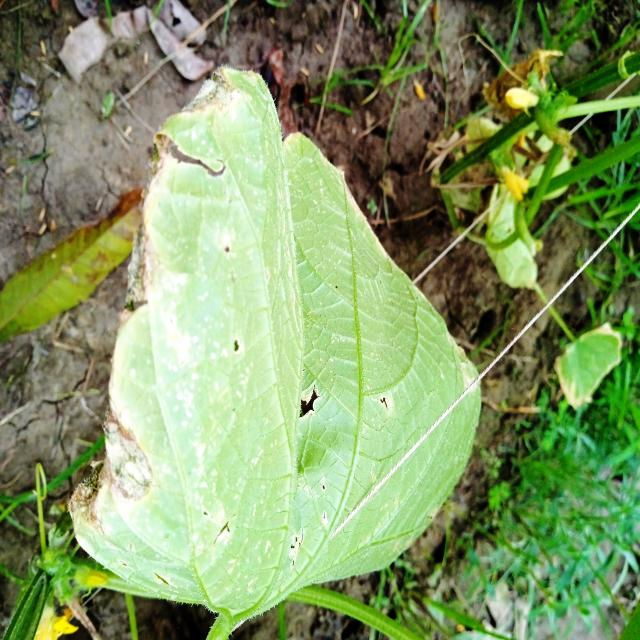Gummy-Stem-Blight: (120, 64, 242, 336), (69, 398, 155, 536)
